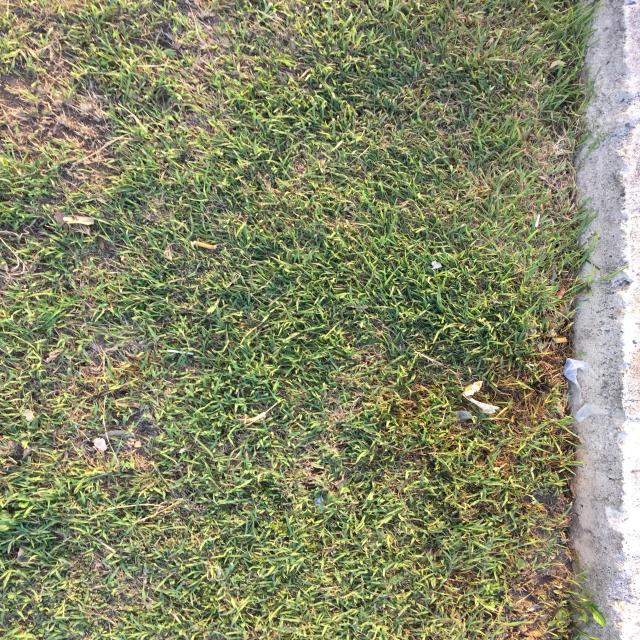litter: (456, 355, 616, 425)
